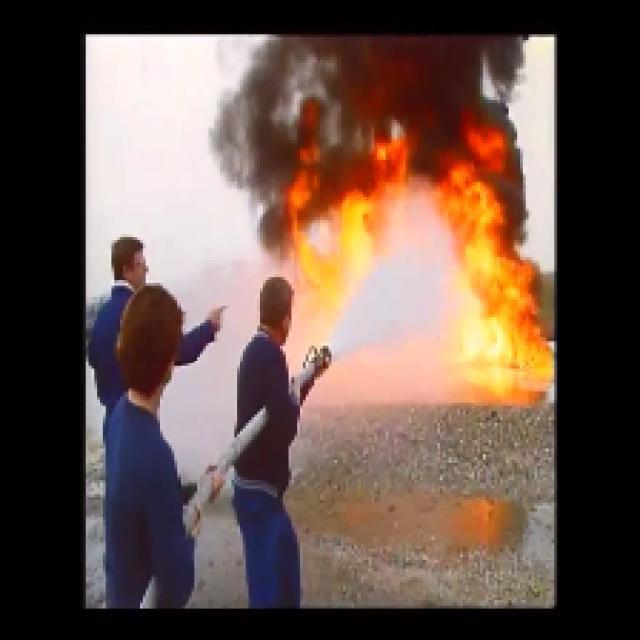Fire: (448, 192, 544, 386), (320, 197, 367, 278)
Smoke: (296, 41, 495, 130)
